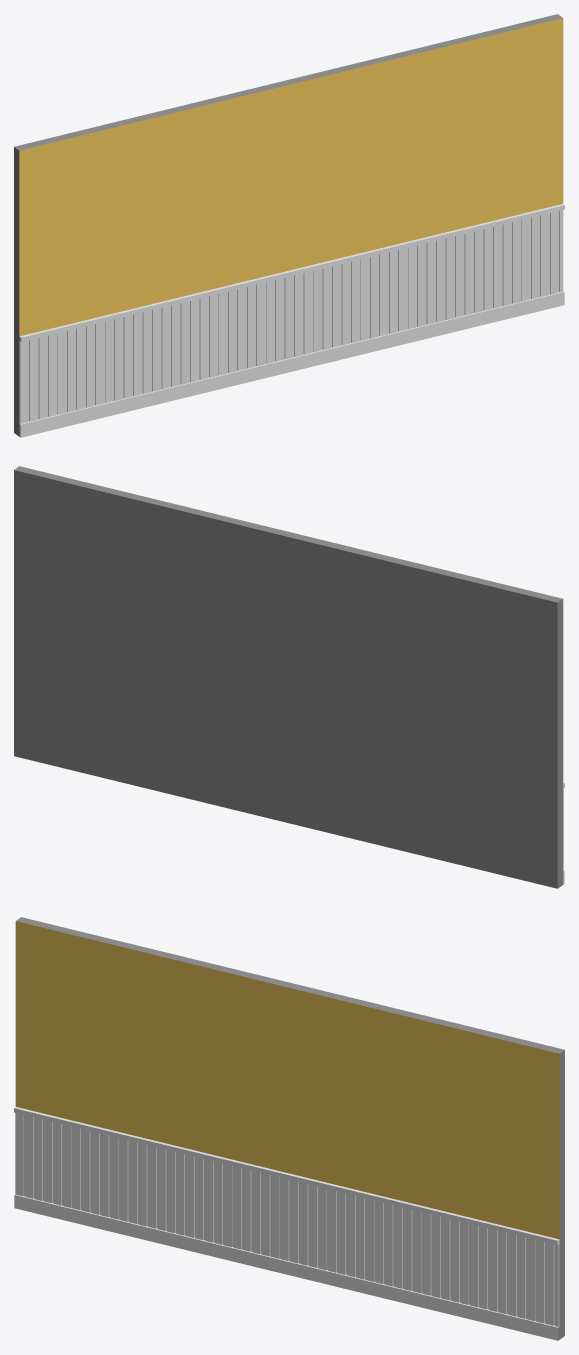
File: Wall 1.FBX
3 views of the same model, one above another, from view 1: azimuth 30°, elevation 25°; view 2: azimuth 150°, elevation 25°; view 3: azimuth 330°, elevation 25° (orthographic).
Parts seen in each view (by area): view 1: Wall 1; view 2: Wall 1; view 3: Wall 1.
Part boxes in pixels (x1,y1,x2,y2): Wall 1: (14, 14, 564, 437); Wall 1: (14, 466, 564, 888); Wall 1: (14, 917, 564, 1340).
Bounding box in the file's own units: 497 × 250 × 11.43.
